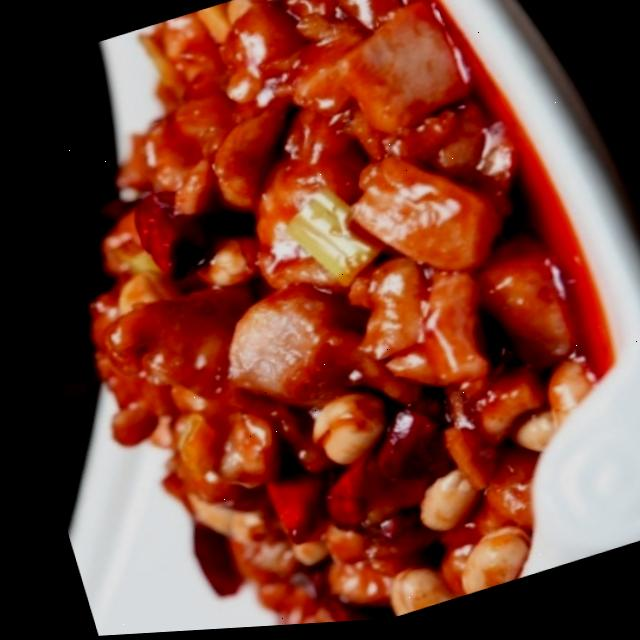鸡肉料理 含炸鸡: (14, 0, 623, 639)
